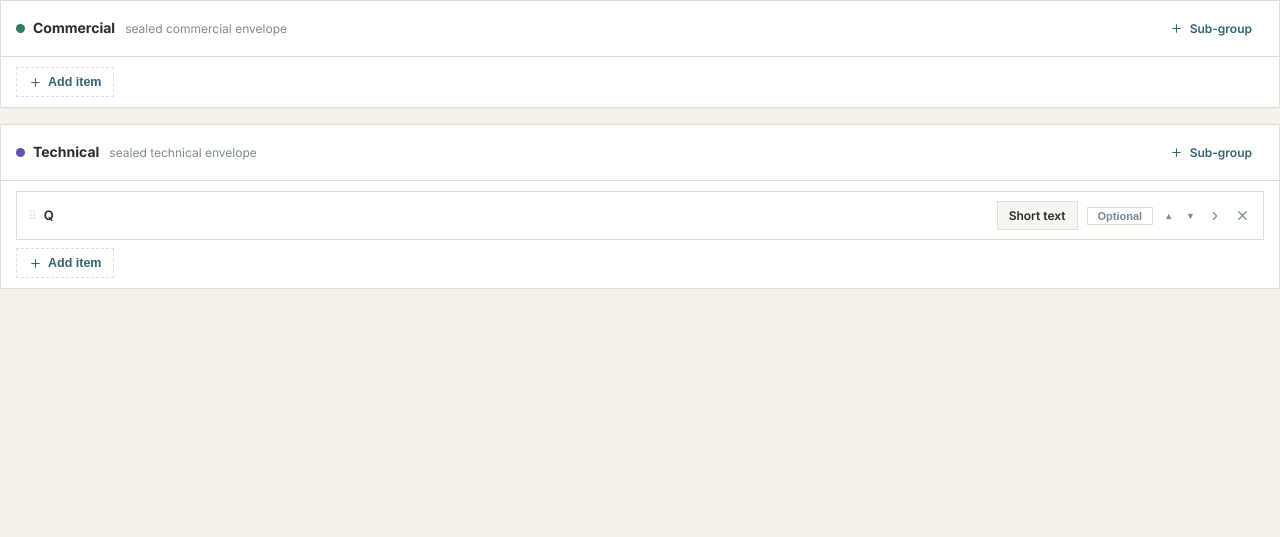
Scenario: QuestionEditor › offers all 12 field types when an item is expanded
The width and height of the screenshot is (1280, 537).
Click the text "Q" at (49, 215), box [44, 207, 54, 223]
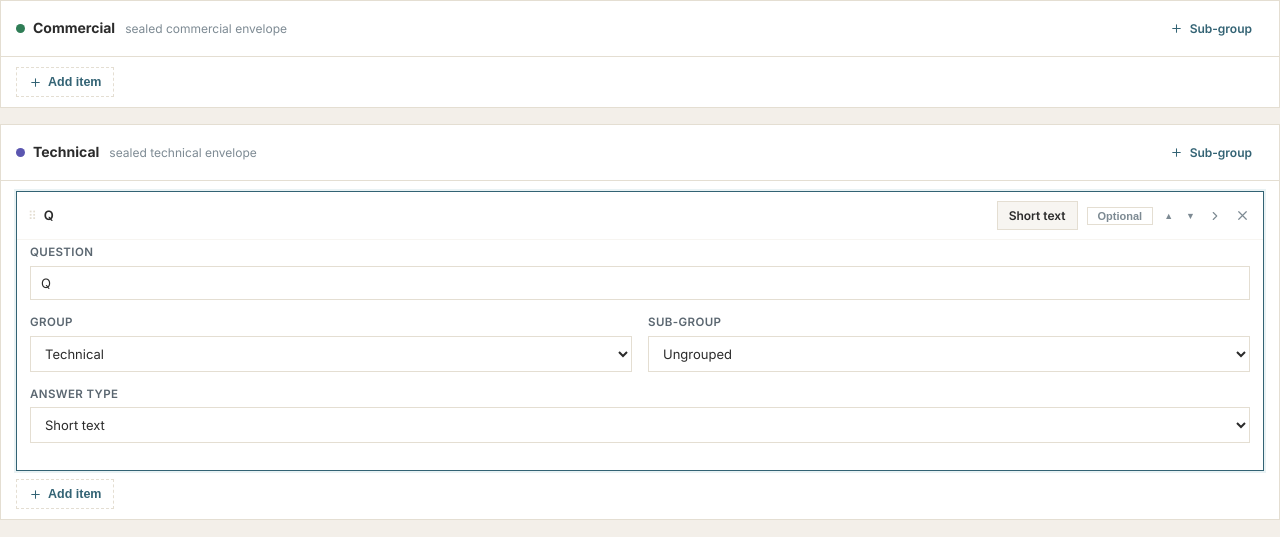
Expected: the dropdown below "Answer type" is shown, [30, 407, 1250, 443]
